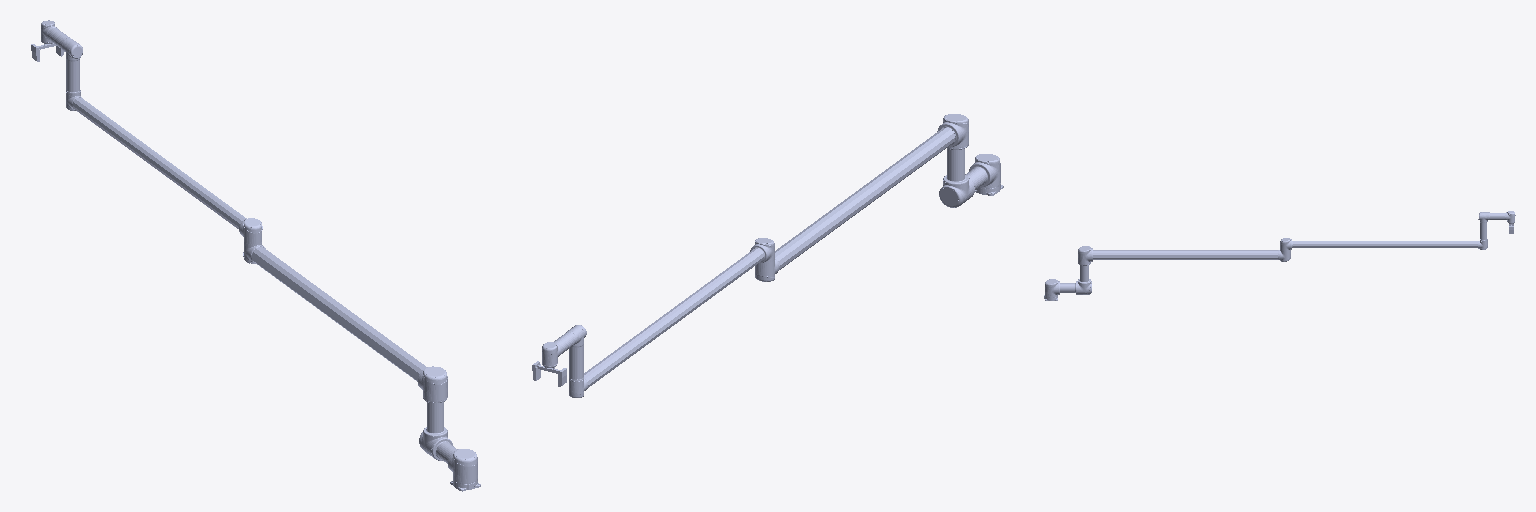
URDF robot description (osam_arm_4_urdf_v2):
<?xml version="1.0" encoding="utf-8" ?>
<!-- This URDF was automatically created by SolidWorks to URDF Exporter! Originally created by [author] ([email redacted]) 
     Commit Version:   Build Version: 1.6.8803.23649
     For more information, please see http://wiki.ros.org/sw_urdf_exporter -->
<robot name="osam_arm_4_urdf_v2">
    <link name="world" />
    <joint name="base_joint" type="fixed">
        <parent link="world" />
        <child link="base_link" />
        <origin rpy="0 0 0" xyz="0.0 0.0 10.0" />
    </joint>
    <link name="base_link">
        <inertial>
            <origin xyz="6.991E-06 0.018435 0.00015935" rpy="0 0 0" />
            <mass value="0.01" />
            <inertia ixx="0.002" ixy="0.0" ixz="0.0" iyy="0.02" iyz="0.0" izz="0.002"/>
        </inertial>
        <visual>
            <origin xyz="0 0 0" rpy="0 0 0" />
            <geometry>
                <mesh filename="package://osam_arm_4_urdf_v2/meshes/base_link.STL" />
            </geometry>
            <material name="">
                <color rgba="0.79216 0.81961 0.93333 1" />
            </material>
        </visual>
        <collision>
            <origin xyz="0 0 0" rpy="0 0 0" />
            <geometry>
                <mesh filename="package://osam_arm_4_urdf_v2/meshes/base_link.STL" />
            </geometry>
        </collision>
    </link>
    <link name="link_1">
        <inertial>
            <origin xyz="2.5674E-06 0.090696 -0.076696" rpy="0 0 0" />
            <mass value="0.01" />
            <inertia ixx="0.002" ixy="0.0" ixz="0.0" iyy="0.02" iyz="0.0" izz="0.002"/>
        </inertial>
        <visual>
            <origin xyz="0 0 0" rpy="0 0 0" />
            <geometry>
                <mesh filename="package://osam_arm_4_urdf_v2/meshes/link_1.STL" />
            </geometry>
            <material name="">
                <color rgba="0.79216 0.81961 0.93333 1" />
            </material>
        </visual>
        <collision>
            <origin xyz="0 0 0" rpy="0 0 0" />
            <geometry>
                <mesh filename="package://osam_arm_4_urdf_v2/meshes/link_1.STL" />
            </geometry>
        </collision>
    </link>
    <joint name="joint0" type="revolute">
        <origin xyz="0 0 0.030189" rpy="1.5708 0 0" />
        <parent link="base_link" />
        <child link="link_1" />
        <axis xyz="0 1 0" />
        <limit lower="-3.14" upper="3.14" effort="111" velocity="3" />
    </joint>
    <link name="link_2">
        <inertial>
            <origin xyz="-3.362E-06 0.091219 -0.083339" rpy="0 0 0" />
            <mass value="0.01" />
            <inertia ixx="0.002" ixy="0.0" ixz="0.0" iyy="0.02" iyz="0.0" izz="0.002"/>
        </inertial>
        <visual>
            <origin xyz="0 0 0" rpy="0 0 0" />
            <geometry>
                <mesh filename="package://osam_arm_4_urdf_v2/meshes/link_2.STL" />
            </geometry>
            <material name="">
                <color rgba="0.79216 0.81961 0.93333 1" />
            </material>
        </visual>
        <collision>
            <origin xyz="0 0 0" rpy="0 0 0" />
            <geometry>
                <mesh filename="package://osam_arm_4_urdf_v2/meshes/link_2.STL" />
            </geometry>
        </collision>
    </link>
    <joint name="joint1" type="revolute">
        <origin xyz="0 0.097811 -0.2784" rpy="0 0 0" />
        <parent link="link_1" />
        <child link="link_2" />
        <axis xyz="0 0 1" />
        <limit lower="-3.14" upper="3.14" effort="111" velocity="3" />
    </joint>
    <link name="link_3">
        <inertial>
            <origin xyz="-1.1715E-06 -1.0393 -0.089088" rpy="0 0 0" />
            <mass value="0.01" />
            <inertia ixx="0.002" ixy="0.0" ixz="0.0" iyy="0.02" iyz="0.0" izz="0.002"/>
        </inertial>
        <visual>
            <origin xyz="0 0 0" rpy="0 0 0" />
            <geometry>
                <mesh filename="package://osam_arm_4_urdf_v2/meshes/link_3.STL" />
            </geometry>
            <material name="">
                <color rgba="0.79216 0.81961 0.93333 1" />
            </material>
        </visual>
        <collision>
            <origin xyz="0 0 0" rpy="0 0 0" />
            <geometry>
                <mesh filename="package://osam_arm_4_urdf_v2/meshes/link_3.STL" />
            </geometry>
        </collision>
    </link>
    <joint name="joint2" type="revolute">
        <origin xyz="0 0.3154 -0.09" rpy="1.5708 0 0" />
        <parent link="link_2" />
        <child link="link_3" />
        <axis xyz="0 0 1" />
        <limit lower="-3.14" upper="3.14" effort="111" velocity="3" />
    </joint>
    <link name="link_4">
        <inertial>
            <origin xyz="5.3111E-08 1.0616 0.073084" rpy="0 0 0" />
            <mass value="0.01" />
            <inertia ixx="0.002" ixy="0.0" ixz="0.0" iyy="0.02" iyz="0.0" izz="0.002"/>
        </inertial>
        <visual>
            <origin xyz="0 0 0" rpy="0 0 0" />
            <geometry>
                <mesh filename="package://osam_arm_4_urdf_v2/meshes/link_4.STL" />
            </geometry>
            <material name="">
                <color rgba="0.79216 0.81961 0.93333 1" />
            </material>
        </visual>
        <collision>
            <origin xyz="0 0 0" rpy="0 0 0" />
            <geometry>
                <mesh filename="package://osam_arm_4_urdf_v2/meshes/link_4.STL" />
            </geometry>
        </collision>
    </link>
    <joint name="joint3" type="revolute">
        <origin xyz="0 -2.2307 -0.14467" rpy="3.1416 0 0" />
        <parent link="link_3" />
        <child link="link_4" />
        <axis xyz="0 0 1" />
        <limit lower="-3.14" upper="3.14" effort="111" velocity="3" />
    </joint>
    <link name="link_5">
        <inertial>
            <origin xyz="1.2326E-06 0.0034231 -0.17222" rpy="0 0 0" />
            <mass value="0.01" />
            <inertia ixx="0.002" ixy="0.0" ixz="0.0" iyy="0.02" iyz="0.0" izz="0.002"/>
        </inertial>
        <visual>
            <origin xyz="0 0 0" rpy="0 0 0" />
            <geometry>
                <mesh filename="package://osam_arm_4_urdf_v2/meshes/link_5.STL" />
            </geometry>
            <material name="">
                <color rgba="0.79216 0.81961 0.93333 1" />
            </material>
        </visual>
        <collision>
            <origin xyz="0 0 0" rpy="0 0 0" />
            <geometry>
                <mesh filename="package://osam_arm_4_urdf_v2/meshes/link_5.STL" />
            </geometry>
        </collision>
    </link>
    <joint name="joint4" type="revolute">
        <origin xyz="0 2.1987 0.13404" rpy="3.1416 0 -3.1416" />
        <parent link="link_4" />
        <child link="link_5" />
        <axis xyz="0 0 1" />
        <limit lower="-3.14" upper="3.14" effort="111" velocity="3" />
    </joint>
    <link name="link_6">
        <inertial>
            <origin xyz="-1.5252E-06 0.15302 -0.0038197" rpy="0 0 0" />
            <mass value="0.01" />
            <inertia ixx="0.002" ixy="0.0" ixz="0.0" iyy="0.02" iyz="0.0" izz="0.002"/>
        </inertial>
        <visual>
            <origin xyz="0 0 0" rpy="0 0 0" />
            <geometry>
                <mesh filename="package://osam_arm_4_urdf_v2/meshes/link_6.STL" />
            </geometry>
            <material name="">
                <color rgba="0.79216 0.81961 0.93333 1" />
            </material>
        </visual>
        <collision>
            <origin xyz="0 0 0" rpy="0 0 0" />
            <geometry>
                <mesh filename="package://osam_arm_4_urdf_v2/meshes/link_6.STL" />
            </geometry>
        </collision>
    </link>
    <joint name="joint5" type="revolute">
        <origin xyz="0 0.060895 -0.28421" rpy="3.1416 0 -3.1416" />
        <parent link="link_5" />
        <child link="link_6" />
        <axis xyz="0 1 0" />
        <limit lower="-3.14" upper="3.14" effort="111" velocity="3" />
    </joint>
    <link name="link_7">
        <inertial>
            <origin xyz="-2.9345E-09 0.022658 1.3952E-07" rpy="0 0 0" />
            <mass value="0.01" />
            <inertia ixx="0.002" ixy="0.0" ixz="0.0" iyy="0.02" iyz="0.0" izz="0.002"/>
        </inertial>
        <visual>
            <origin xyz="0 0 0" rpy="0 0 0" />
            <geometry>
                <mesh filename="package://osam_arm_4_urdf_v2/meshes/link_7.STL" />
            </geometry>
            <material name="">
                <color rgba="0.79216 0.81961 0.93333 1" />
            </material>
        </visual>
        <collision>
            <origin xyz="0 0 0" rpy="0 0 0" />
            <geometry>
                <mesh filename="package://osam_arm_4_urdf_v2/meshes/link_7.STL" />
            </geometry>
        </collision>
    </link>
    <joint name="joint6" type="revolute">
        <origin xyz="0 0.24721 -0.0617" rpy="-1.5708 0 0" />
        <parent link="link_6" />
        <child link="link_7" />
        <axis xyz="0 1 0" />
        <limit lower="-3.14" upper="3.14" effort="111" velocity="0" />
    </joint>
    <link name="link_8">
        <inertial>
            <origin xyz="-0.087027 0.022495 0" rpy="0 0 0" />
            <mass value="0.01" />
            <inertia ixx="0.002" ixy="0.0" ixz="0.0" iyy="0.02" iyz="0.0" izz="0.002"/>
        </inertial>
        <visual>
            <origin xyz="0 0 0" rpy="0 0 0" />
            <geometry>
                <mesh filename="package://osam_arm_4_urdf_v2/meshes/link_8.STL" />
            </geometry>
            <material name="">
                <color rgba="0.79216 0.81961 0.93333 1" />
            </material>
        </visual>
        <collision>
            <origin xyz="0 0 0" rpy="0 0 0" />
            <geometry>
                <mesh filename="package://osam_arm_4_urdf_v2/meshes/link_8.STL" />
            </geometry>
        </collision>
    </link>
    <joint name="joint7" type="prismatic">
        <origin xyz="0 0.05 0" rpy="0 0 0" />
        <parent link="link_7" />
        <child link="link_8" />
        <axis xyz="1 0 0" />
        <limit lower="0" upper="0.04" effort="111" velocity="3" />
    </joint>
    <link name="link_9">
        <inertial>
            <origin xyz="-0.16203 0.00049522 -0.03" rpy="0 0 0" />
            <mass value="0.01" />
            <inertia ixx="0.002" ixy="0.0" ixz="0.0" iyy="0.02" iyz="0.0" izz="0.002"/>
        </inertial>
        <visual>
            <origin xyz="0 0 0" rpy="0 0 0" />
            <geometry>
                <mesh filename="package://osam_arm_4_urdf_v2/meshes/link_9.STL" />
            </geometry>
            <material name="">
                <color rgba="0.79216 0.81961 0.93333 1" />
            </material>
        </visual>
        <collision>
            <origin xyz="0 0 0" rpy="0 0 0" />
            <geometry>
                <mesh filename="package://osam_arm_4_urdf_v2/meshes/link_9.STL" />
            </geometry>
        </collision>
    </link>
    <joint name="joint8" type="prismatic">
        <origin xyz="-0.075 0.072 -0.03" rpy="3.1416 0 3.1416" />
        <parent link="link_7" />
        <child link="link_9" />
        <axis xyz="1 0 0" />
        <limit lower="-0.04" upper="0" effort="111" velocity="3" />
    </joint>
    <transmission name="link_1_trans">
        <type>transmission_interface/SimpleTransmission</type>
        <joint name="joint0">
            <hardwareInterface>hardware_interface/PositionJointInterface</hardwareInterface>
        </joint>
        <actuator name="link_1_motor">
            <hardwareInterface>hardware_interface/PositionJointInterface</hardwareInterface>
            <mechanicalReduction>1</mechanicalReduction>
        </actuator>
    </transmission>
    <transmission name="link_2_trans">
        <type>transmission_interface/SimpleTransmission</type>
        <joint name="joint1">
            <hardwareInterface>hardware_interface/PositionJointInterface</hardwareInterface>
        </joint>
        <actuator name="link_2_motor">
            <hardwareInterface>hardware_interface/PositionJointInterface</hardwareInterface>
            <mechanicalReduction>1</mechanicalReduction>
        </actuator>
    </transmission>
    <transmission name="link_3_trans">
        <type>transmission_interface/SimpleTransmission</type>
        <joint name="joint2">
            <hardwareInterface>hardware_interface/PositionJointInterface</hardwareInterface>
        </joint>
        <actuator name="link_3_motor">
            <hardwareInterface>hardware_interface/PositionJointInterface</hardwareInterface>
            <mechanicalReduction>1</mechanicalReduction>
        </actuator>
    </transmission>
    <transmission name="link_4_trans">
        <type>transmission_interface/SimpleTransmission</type>
        <joint name="joint3">
            <hardwareInterface>hardware_interface/PositionJointInterface</hardwareInterface>
        </joint>
        <actuator name="link_4_motor">
            <hardwareInterface>hardware_interface/PositionJointInterface</hardwareInterface>
            <mechanicalReduction>1</mechanicalReduction>
        </actuator>
    </transmission>
    <transmission name="link_5_trans">
        <type>transmission_interface/SimpleTransmission</type>
        <joint name="joint4">
            <hardwareInterface>hardware_interface/PositionJointInterface</hardwareInterface>
        </joint>
        <actuator name="link_5_motor">
            <hardwareInterface>hardware_interface/PositionJointInterface</hardwareInterface>
            <mechanicalReduction>1</mechanicalReduction>
        </actuator>
    </transmission>
    <transmission name="link_6_trans">
        <type>transmission_interface/SimpleTransmission</type>
        <joint name="joint5">
            <hardwareInterface>hardware_interface/PositionJointInterface</hardwareInterface>
        </joint>
        <actuator name="link_6_motor">
            <hardwareInterface>hardware_interface/PositionJointInterface</hardwareInterface>
            <mechanicalReduction>1</mechanicalReduction>
        </actuator>
    </transmission>
    <transmission name="link_7_trans">
        <type>transmission_interface/SimpleTransmission</type>
        <joint name="joint6">
            <hardwareInterface>hardware_interface/PositionJointInterface</hardwareInterface>
        </joint>
        <actuator name="link_7_motor">
            <hardwareInterface>hardware_interface/PositionJointInterface</hardwareInterface>
            <mechanicalReduction>1</mechanicalReduction>
        </actuator>
    </transmission>
    <transmission name="link_8_trans">
        <type>transmission_interface/SimpleTransmission</type>
        <joint name="joint7">
            <hardwareInterface>hardware_interface/PositionJointInterface</hardwareInterface>
        </joint>
        <actuator name="link_8_motor">
            <hardwareInterface>hardware_interface/PositionJointInterface</hardwareInterface>
            <mechanicalReduction>1</mechanicalReduction>
        </actuator>
    </transmission>
    <transmission name="link_9_trans">
        <type>transmission_interface/SimpleTransmission</type>
        <joint name="joint8">
            <hardwareInterface>hardware_interface/PositionJointInterface</hardwareInterface>
        </joint>
        <actuator name="link_9_motor">
            <hardwareInterface>hardware_interface/PositionJointInterface</hardwareInterface>
            <mechanicalReduction>1</mechanicalReduction>
        </actuator>
    </transmission>
    <gazebo>
        <plugin name="control" filename="libgazebo_ros_control.so">
            <robotNamespace>/</robotNamespace>
        </plugin>
        <plugin name="gazebo_ros_control" filename="libgazebo_ros_control.so">
            <robotNamespace>/</robotNamespace>
        </plugin>
    </gazebo>
    <gazebo reference="link_1">
        <selfCollide>true</selfCollide>
    </gazebo>
    <gazebo reference="link_2">
        <selfCollide>true</selfCollide>
    </gazebo>
    <gazebo reference="link_3">
        <selfCollide>true</selfCollide>
    </gazebo>
    <gazebo reference="link_4">
        <selfCollide>true</selfCollide>
    </gazebo>
    <gazebo reference="link_5">
        <selfCollide>true</selfCollide>
    </gazebo>
    <gazebo reference="link_6">
        <selfCollide>true</selfCollide>
    </gazebo>
    <gazebo reference="link_7">
        <selfCollide>true</selfCollide>
    </gazebo>
    <gazebo reference="link_8">
        <selfCollide>true</selfCollide>
    </gazebo>
    <gazebo reference="link_9">
        <selfCollide>true</selfCollide>
    </gazebo>
</robot>

--- Render facts (derived) ---
3 views of the same robot in one strip: view 1: azimuth 30°, elevation 25°; view 2: azimuth 150°, elevation 25°; view 3: azimuth 270°, elevation 25° (orthographic).
Robot: osam_arm_4_urdf_v2 — 11 links, 10 joints (7 revolute, 2 prismatic, 1 fixed); root link world; default pose: every joint at zero.
Links seen in each view (by area): view 1: link_3, link_4, link_1, link_2, link_5; view 2: link_3, link_4, link_2, link_1, link_5, link_6; view 3: link_3, link_4.
Boxes of the visible links, left/top/right/bottom form: link_3: left=243, top=242, right=447, bottom=402; link_4: left=66, top=91, right=262, bottom=243; link_1: left=432, top=438, right=477, bottom=484; link_2: left=419, top=400, right=447, bottom=457; link_5: left=62, top=38, right=82, bottom=93; link_3: left=755, top=114, right=968, bottom=281; link_4: left=569, top=238, right=774, bottom=397; link_2: left=939, top=145, right=974, bottom=207; link_1: left=965, top=154, right=1000, bottom=189; link_5: left=568, top=325, right=586, bottom=381; link_6: left=542, top=331, right=577, bottom=365; link_3: left=1078, top=246, right=1290, bottom=264; link_4: left=1280, top=238, right=1487, bottom=251.
Size in the robot's own frame: 0.2 by 5.23 by 1.06 metres.
10 mesh visuals loaded from 10 distinct referenced files (10 binary STL).
